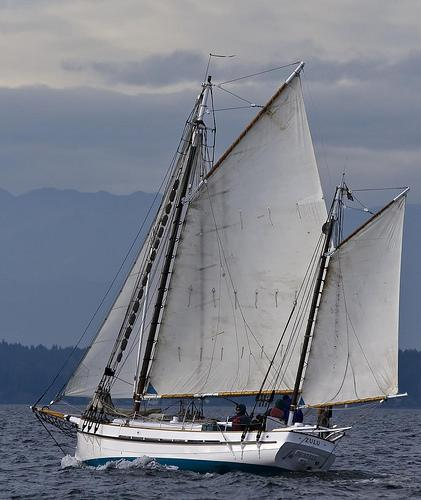Ship: (31, 55, 412, 479)
